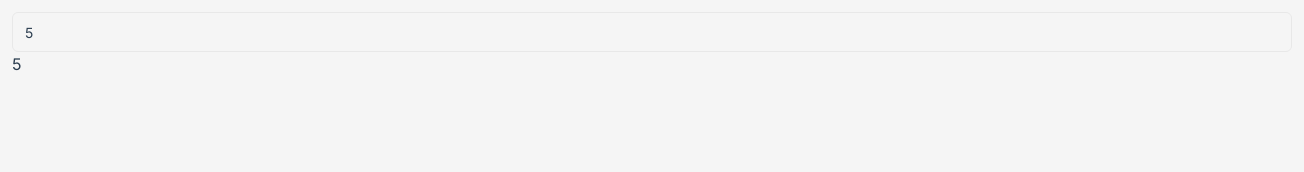
Test case: NumberInput › faz snap para min quando emptyBehavior=min
Clear the field named "num" at (652, 32), box [12, 12, 1292, 52]
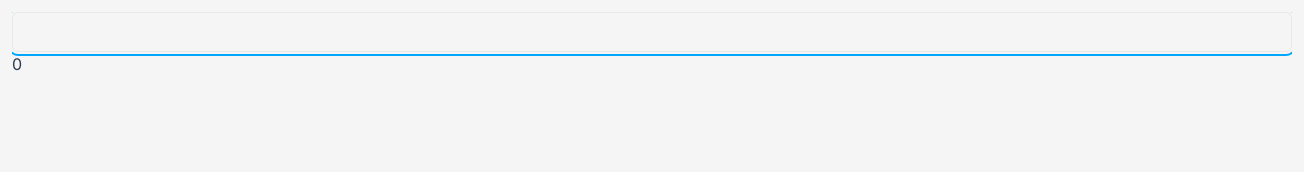
Leave the field named "num", box [12, 12, 1292, 52]
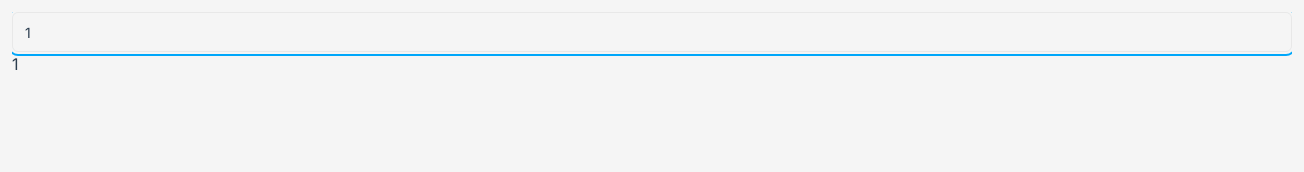
Check: the text with test id "value" reads "1", box [12, 54, 18, 74]
